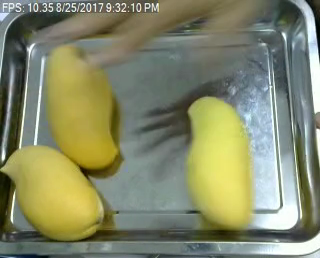Mango: (0, 145, 105, 240), (186, 95, 254, 228), (46, 44, 118, 169)
